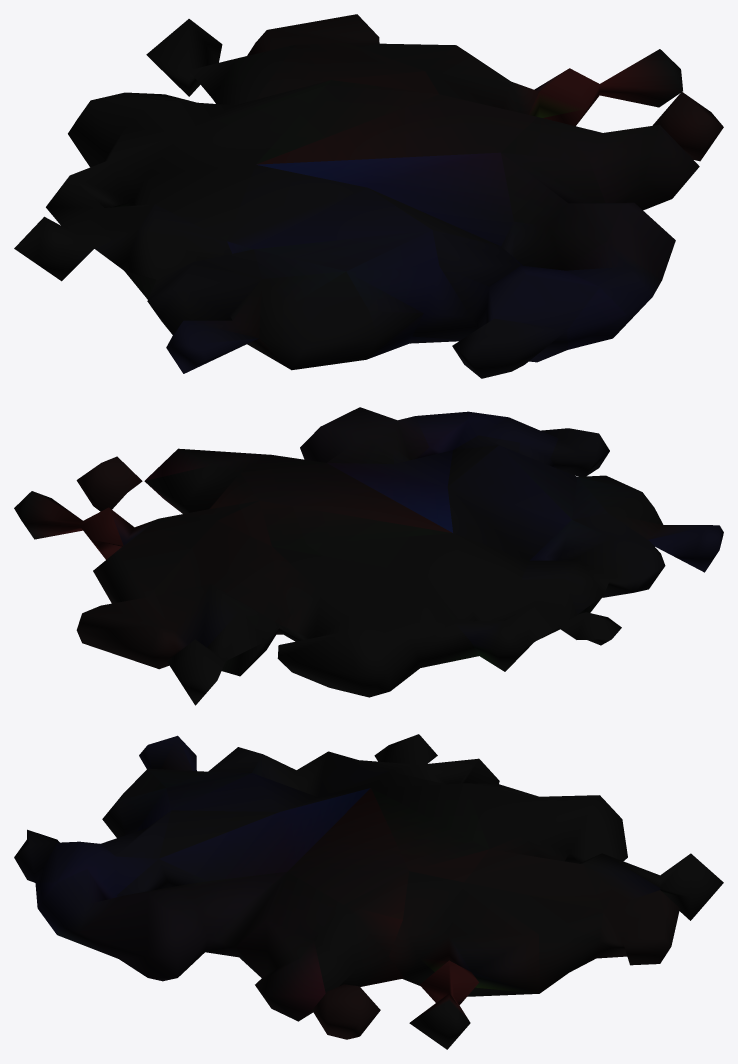
File: Fluid.fbx
3 renders of one model, top to bottom at view 1: azimuth 30°, elevation 25°; view 2: azimuth 150°, elevation 25°; view 3: azimuth 270°, elevation 25°, orthographic. The views are drawn at different scales.
Parts seen in each view (by area): view 1: polySurface2; view 2: polySurface2; view 3: polySurface2.
Part boxes in pixels (left/top/right/bottom): polySurface2: left=14, top=14, right=723, bottom=378; polySurface2: left=14, top=407, right=723, bottom=705; polySurface2: left=14, top=734, right=723, bottom=1049.
Size of the model in its own units: 11.35 by 1.85 by 11.78.
